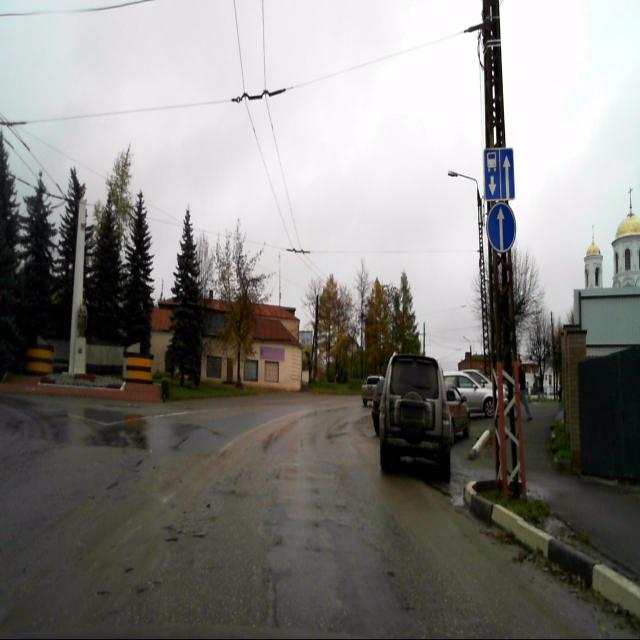road sign: (483, 148, 515, 200)
